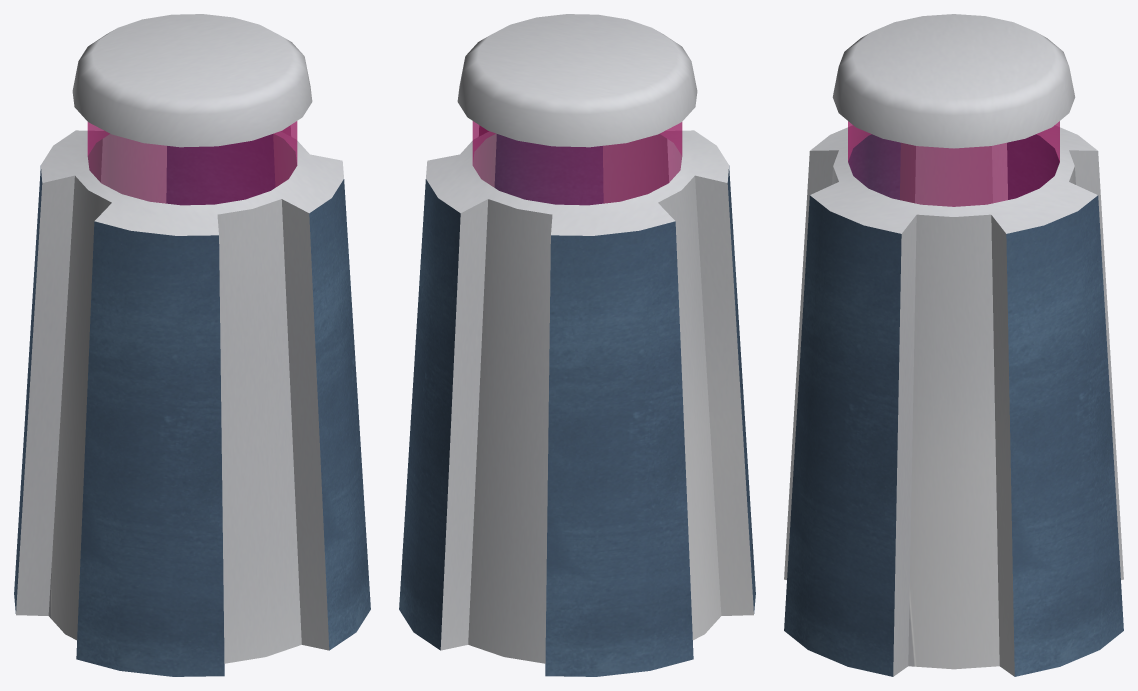
File: beam02.fbx
3 renders of one model, left to right at view 1: azimuth 30°, elevation 25°; view 2: azimuth 150°, elevation 25°; view 3: azimuth 270°, elevation 25°, orthographic.
Parts seen in each view (by area): view 1: polySurface115, polySurface52; view 2: polySurface115, polySurface52; view 3: polySurface115, polySurface52.
Part boxes in pixels (x1,y1,x2,y2): polySurface115: (14, 126, 370, 676); polySurface52: (72, 14, 312, 205); polySurface115: (399, 126, 755, 676); polySurface52: (457, 14, 697, 205); polySurface115: (784, 125, 1123, 676); polySurface52: (832, 14, 1075, 206).
Bounding box in the file's own units: 12.07 × 21.55 × 12.07.
